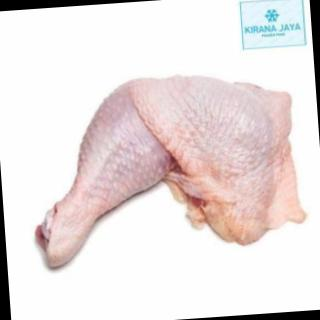Ayam: (30, 68, 301, 270)
